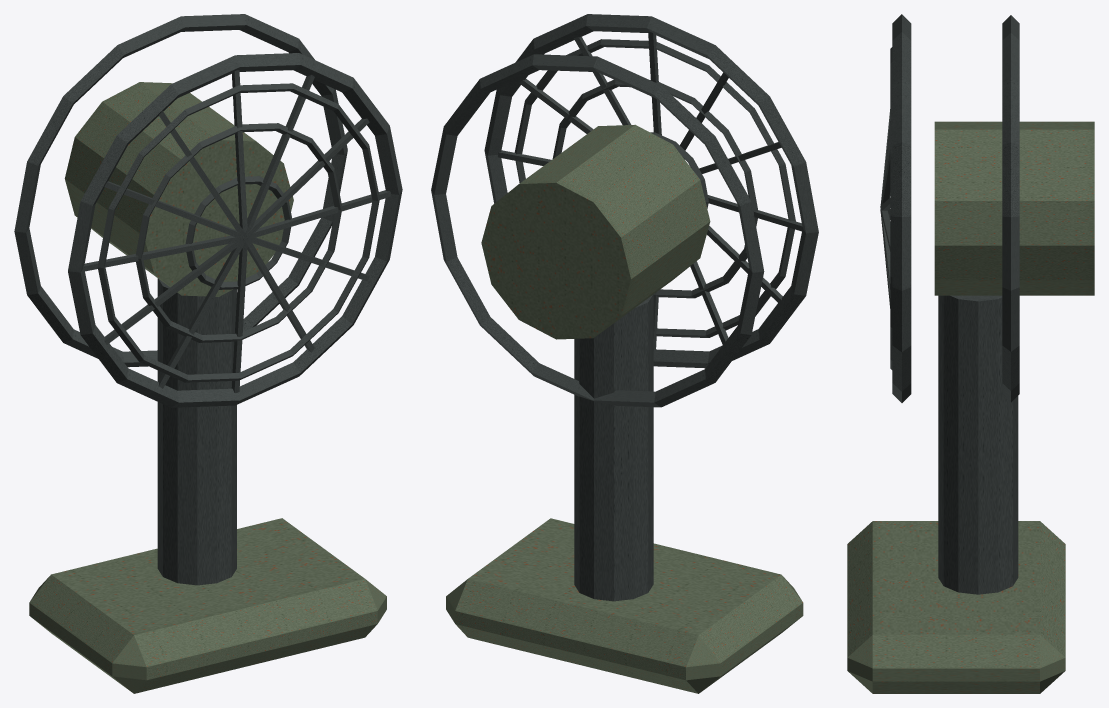
File: SalvageFanFrame.fbx
3 views of the same model, side by side, from view 1: azimuth 30°, elevation 25°; view 2: azimuth 150°, elevation 25°; view 3: azimuth 270°, elevation 25° (orthographic).
Visible parts, largest first — view 1: SalvageFanFrame; view 2: SalvageFanFrame; view 3: SalvageFanFrame.
Boxes of the visible parts, <box> form: SalvageFanFrame: <box>14,14,402,693</box>; SalvageFanFrame: <box>431,14,818,693</box>; SalvageFanFrame: <box>847,14,1094,693</box>.
Bounding box in the file's own units: 53.6 × 91.8 × 34.
Materials: 1 (1 with a texture image).
